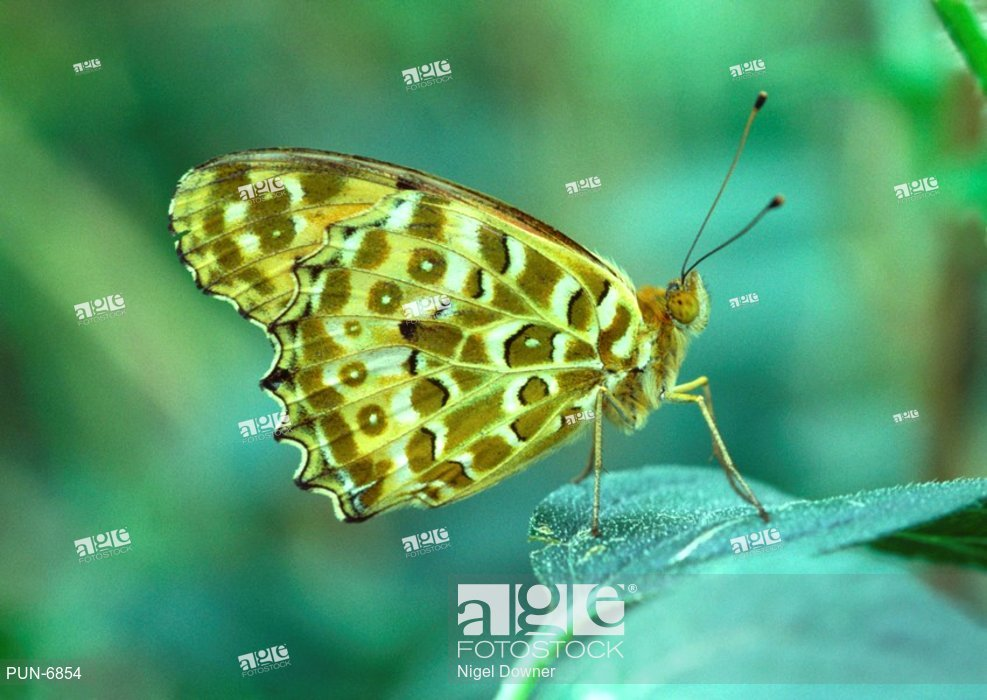Argyreus hyperbius: (158, 71, 787, 537)
butterfly: (160, 73, 789, 539)
